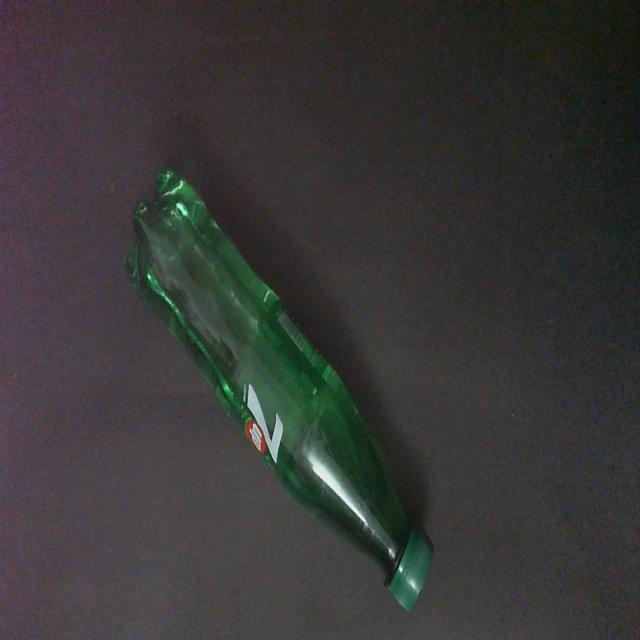non-defect: (123, 163, 436, 618)
